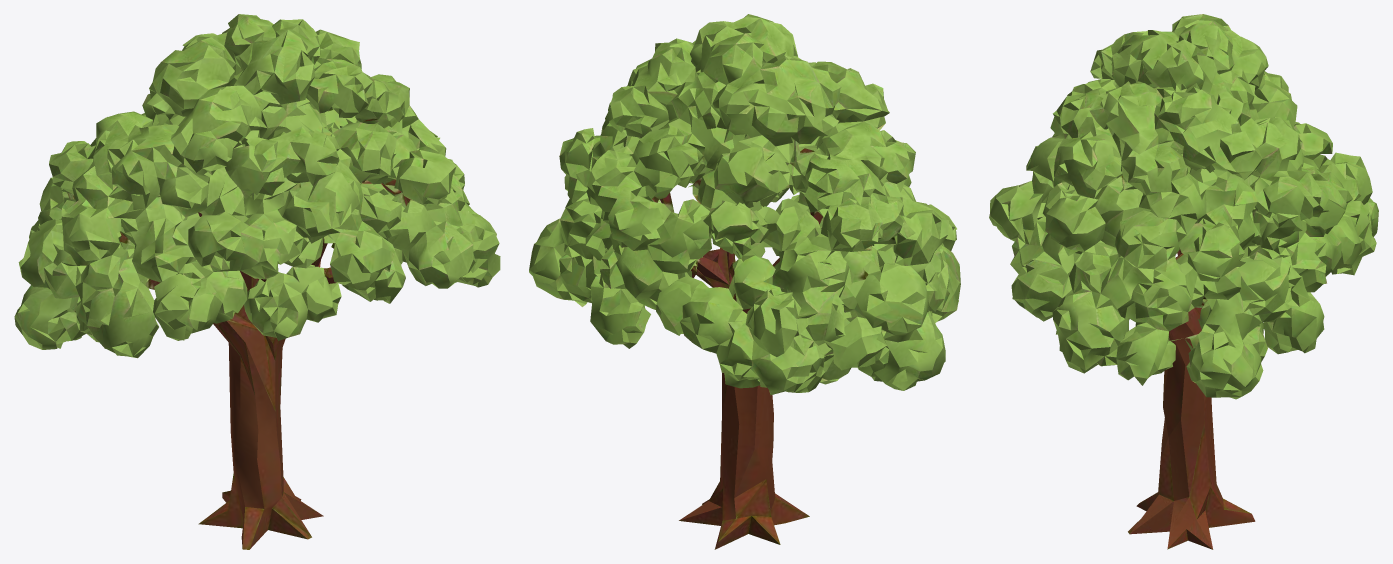
Rendered from oak_tree.glb.
3 renders of one model, left to right at view 1: azimuth 30°, elevation 25°; view 2: azimuth 150°, elevation 25°; view 3: azimuth 270°, elevation 25°, orthographic.
Bounding box in the file's own units: 1.68 × 1.9 × 1.35.
1 material, 1 textured.
